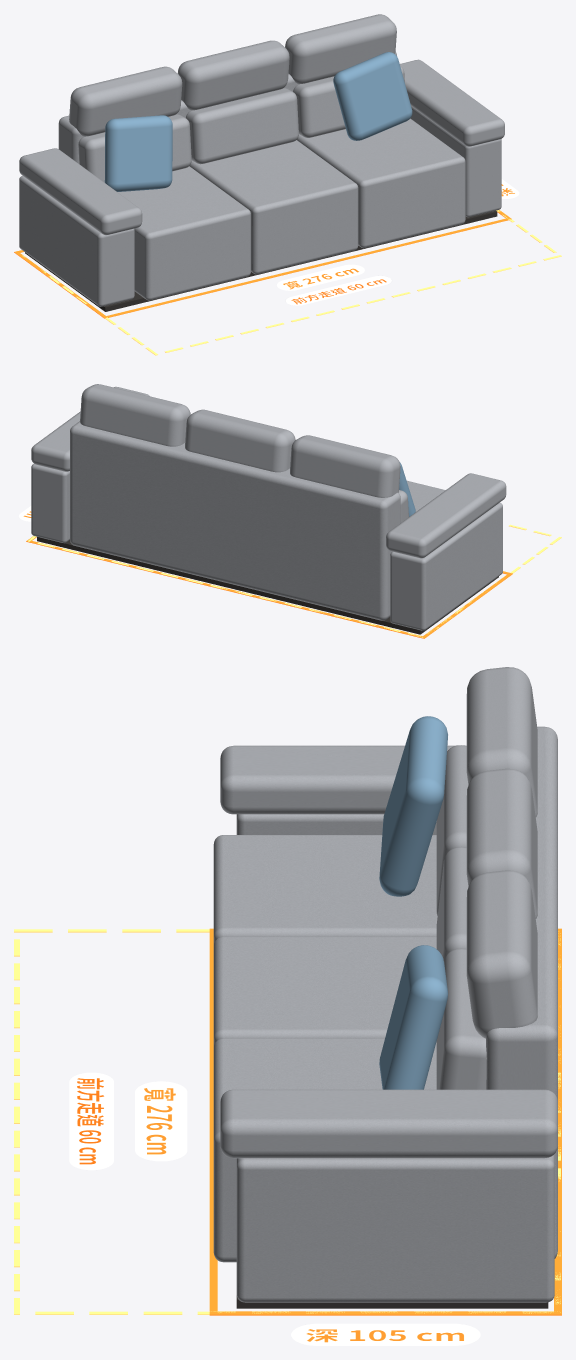
Rendered from ownRecliner-f.glb.
3 renders of one model, top to bottom at view 1: azimuth 30°, elevation 25°; view 2: azimuth 150°, elevation 25°; view 3: azimuth 270°, elevation 25°, orthographic. The views are drawn at different scales.
Visible parts, largest first — view 1: object 10, object 13, object 7, object 3, object 11, object 12, ar-frame, object 4, object 9, object 15, object 17, object 16 (+6 smaller); view 2: object 2, object 3, object 4, object 9, object 12, object 15, object 5, object 1, ar-frame, object 6, object 7; view 3: object 5, object 6, ar-frame, object 7, object 10, object 13, object 4, object 2, object 15, object 16, object 12, object 9 (+6 smaller).
Boxes of the visible parts, x1,y1,x2,y2 form: object 10: (189, 140, 358, 274); object 13: (297, 118, 465, 248); object 7: (117, 166, 250, 300); object 3: (19, 176, 134, 306); object 11: (186, 88, 298, 164); object 12: (177, 40, 289, 110); ar-frame: (14, 179, 561, 355); object 4: (19, 148, 142, 235); object 9: (69, 66, 182, 136); object 15: (285, 14, 396, 84); object 17: (333, 52, 412, 140); object 16: (104, 115, 172, 191); object 2: (70, 421, 400, 620); object 3: (390, 502, 502, 630); object 4: (386, 473, 506, 558); object 9: (290, 435, 400, 497); object 12: (185, 409, 295, 472); object 15: (80, 384, 190, 446); object 5: (31, 464, 69, 543); object 1: (37, 537, 498, 634); ar-frame: (19, 506, 561, 638); object 6: (31, 386, 149, 471); object 7: (407, 480, 445, 511); object 5: (236, 1154, 554, 1302); object 6: (220, 1089, 557, 1158); ar-frame: (14, 928, 561, 1345); object 7: (213, 835, 437, 945); object 10: (213, 936, 436, 1046); object 13: (213, 1038, 436, 1262); object 4: (220, 745, 454, 814); object 2: (486, 726, 557, 1258); object 15: (466, 870, 537, 1038); object 16: (379, 716, 447, 896); object 12: (466, 768, 537, 918); object 9: (466, 667, 537, 817).
Bounding box in the file's own units: 3.01 × 1.05 × 1.67.
Materials: 8 (4 with a texture image).
